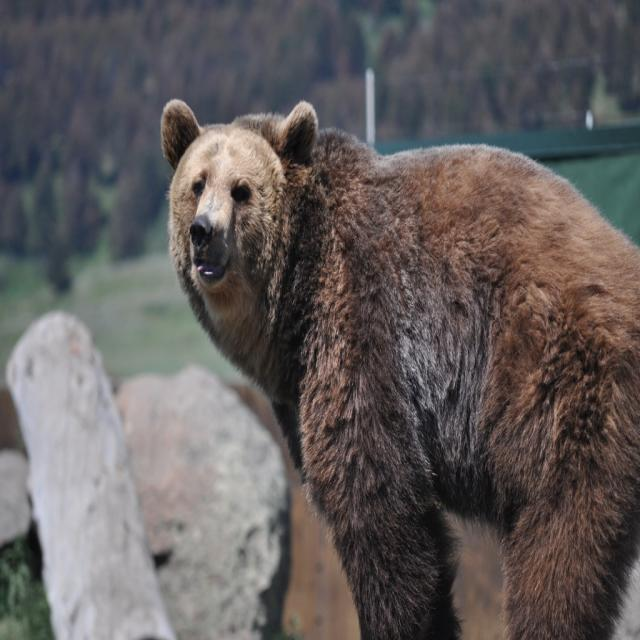Cheetahs: (158, 97, 640, 639)
